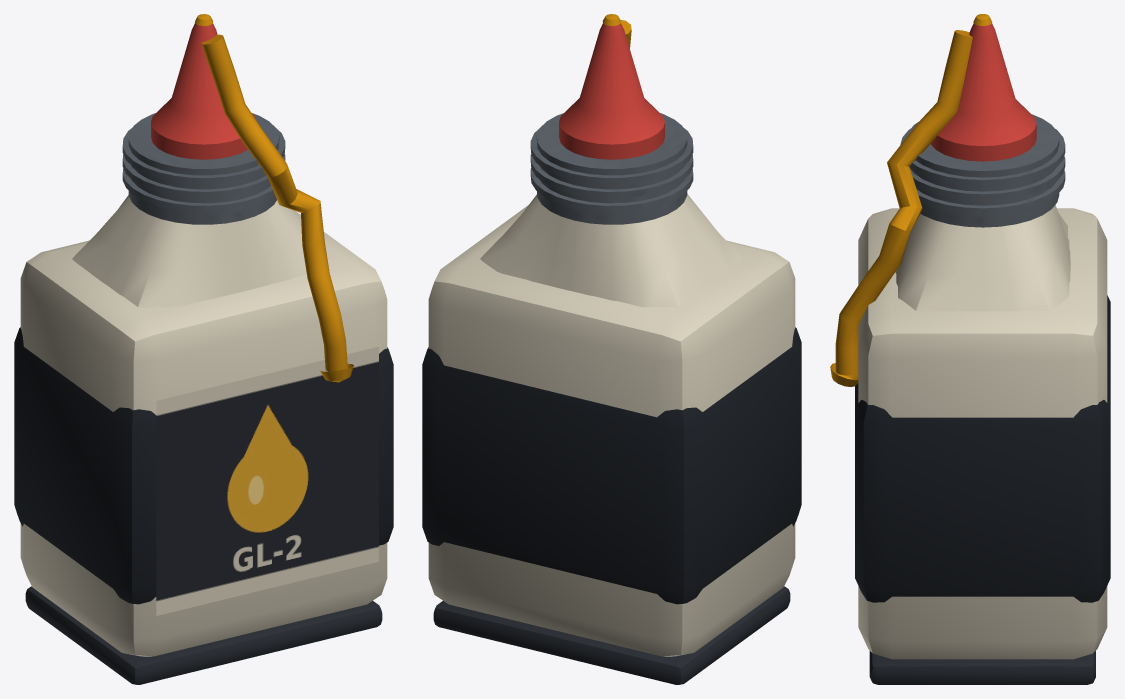
File: glue.glb
3 views of the same model, side by side, from view 1: azimuth 30°, elevation 25°; view 2: azimuth 150°, elevation 25°; view 3: azimuth 270°, elevation 25° (orthographic).
Parts seen in each view (by area): view 1: Bottle; view 2: Bottle; view 3: Bottle.
Boxes of the visible parts, <box> form: Bottle: <box>14,14,393,684</box>; Bottle: <box>422,14,801,684</box>; Bottle: <box>830,14,1110,684</box>.
Bounding box in the file's own units: 0.1144 × 0.2385 × 0.0991.
Materials: 7 (2 with a texture image).
